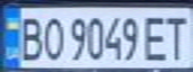0: (84, 12, 106, 62)
4: (103, 12, 124, 62)
9: (66, 12, 87, 62), (121, 12, 142, 62)
B: (15, 12, 45, 62)
E: (142, 12, 172, 62)
O: (39, 12, 66, 62)
T: (163, 11, 193, 62)
